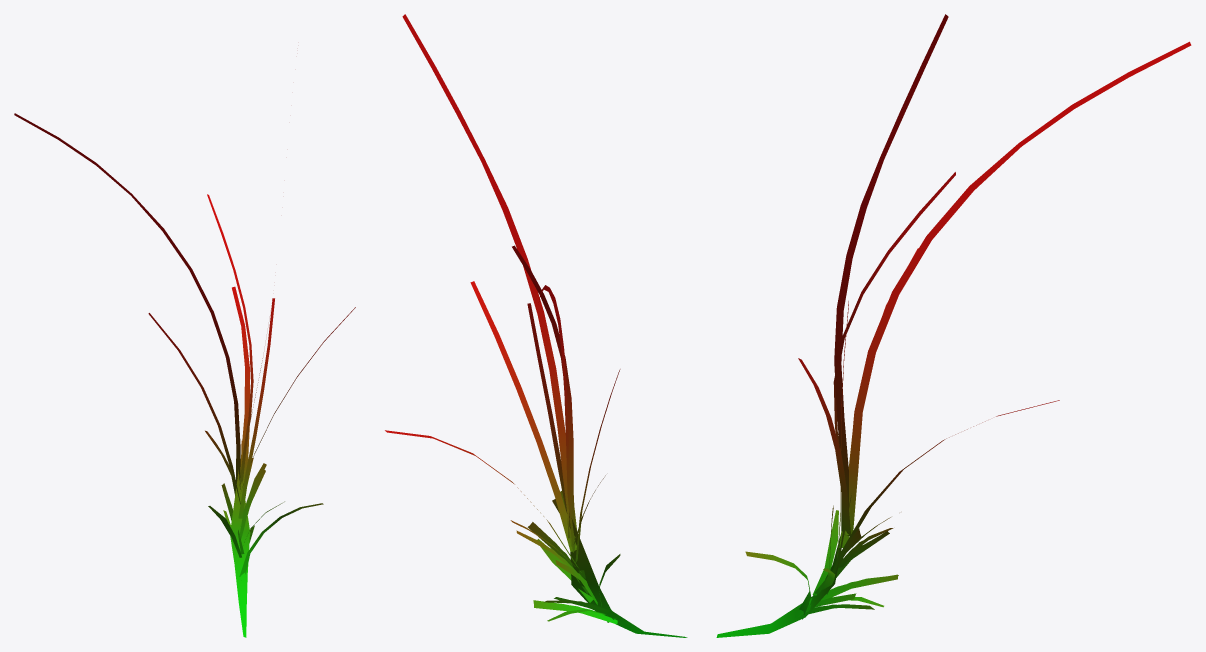
The model's file is Sea Wheatgrass_LOD1_Var16_ui2oagjia.fbx.
3 renders of one model, left to right at view 1: azimuth 30°, elevation 25°; view 2: azimuth 150°, elevation 25°; view 3: azimuth 270°, elevation 25°, orthographic. The views are drawn at different scales.
Parts seen in each view (by area): view 1: _uhnu_Var16_LOD1; view 2: _uhnu_Var16_LOD1; view 3: _uhnu_Var16_LOD1.
Part boxes in pixels (x1,y1,x2,y2): _uhnu_Var16_LOD1: [14, 113, 355, 637]; _uhnu_Var16_LOD1: [385, 14, 687, 637]; _uhnu_Var16_LOD1: [716, 14, 1191, 637].
Bounding box in the file's own units: 22.83 × 58 × 34.84.
